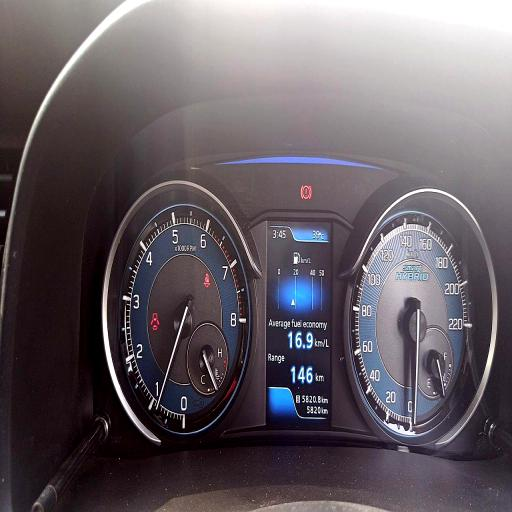belt: (203, 273, 211, 288)
brake_system_fault: (300, 186, 312, 200)
tachometer: (104, 180, 254, 441)
